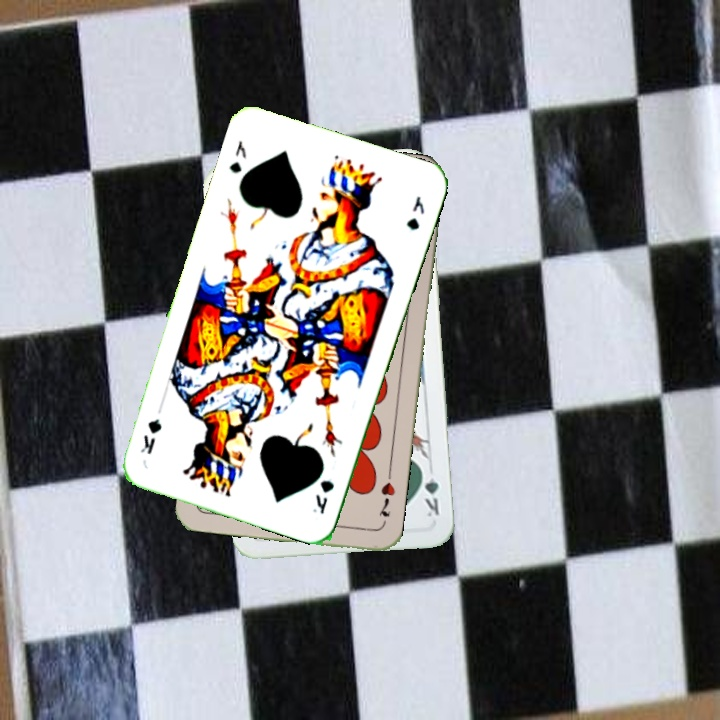GK: (417, 463, 442, 520), (308, 476, 337, 517), (225, 136, 249, 176)
H7: (375, 478, 398, 520)
